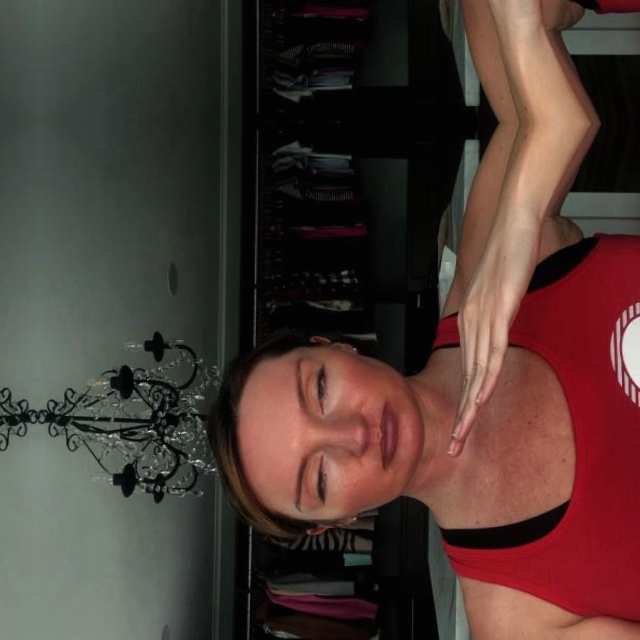Paper: (447, 209, 540, 460)
